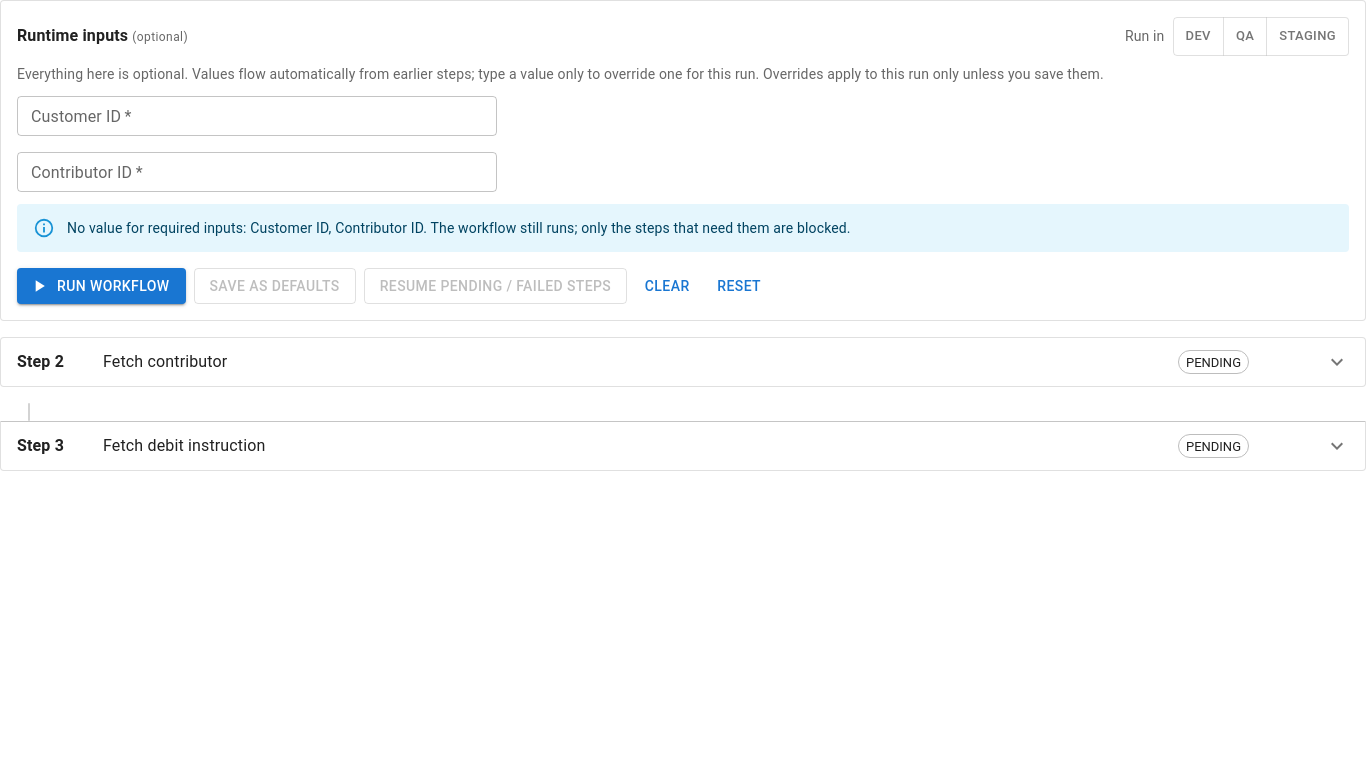
Test: WorkflowRunner › starts a run with the entered inputs and shows mapped values passed between steps
The width and height of the screenshot is (1366, 768).
Type "C1" into the field with test id "field-customerId" at (257, 116), box [17, 96, 497, 136]
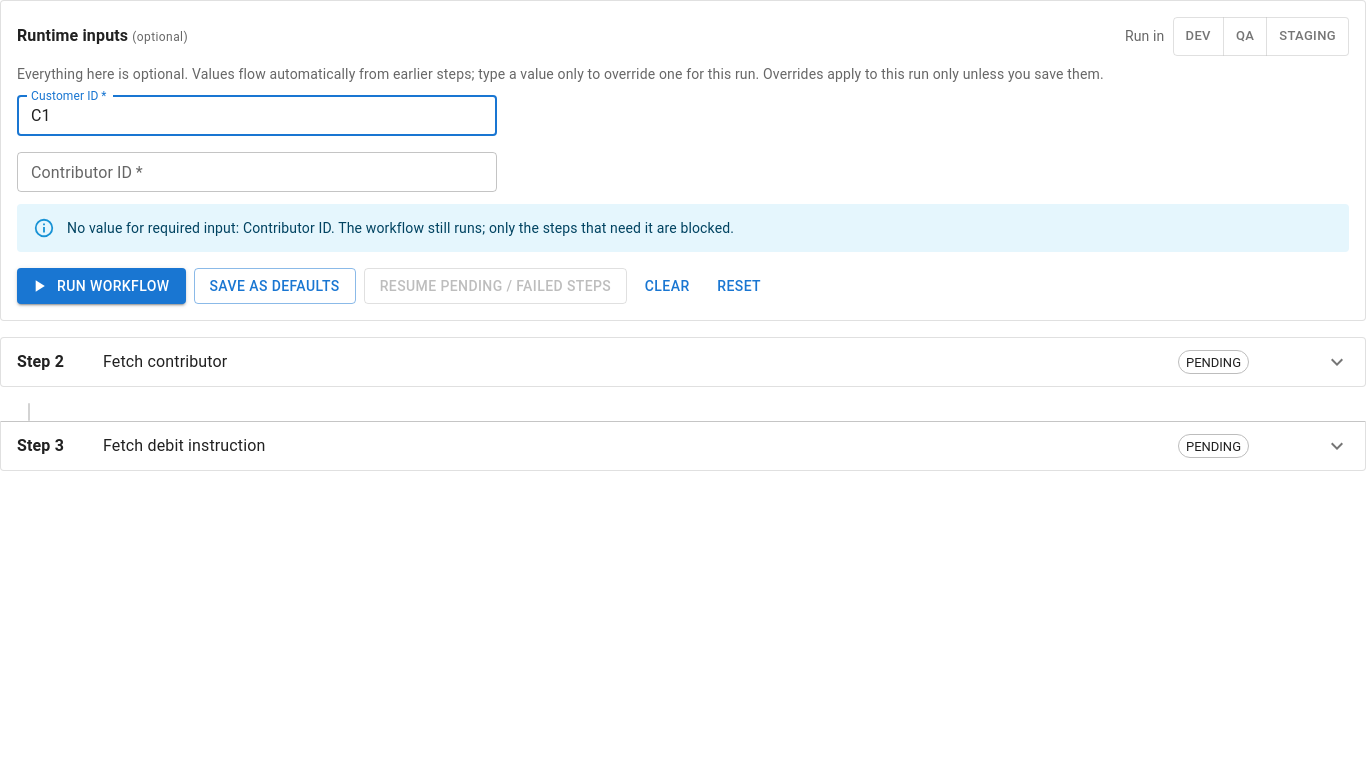
Type "CT7" into the field with test id "field-contributorId" at (257, 172), box [17, 152, 497, 192]
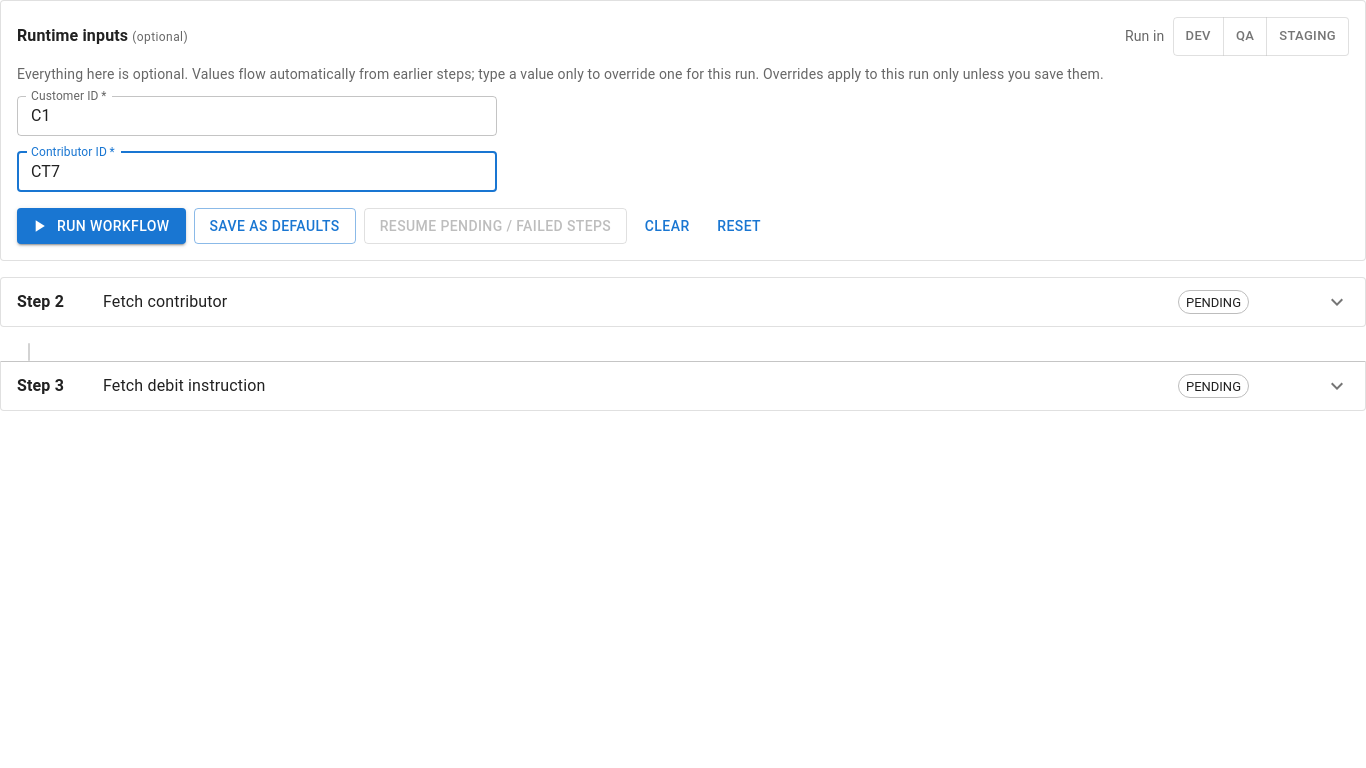
Click the button "Run workflow" at (101, 226), box [17, 208, 186, 244]
(page scrolled)
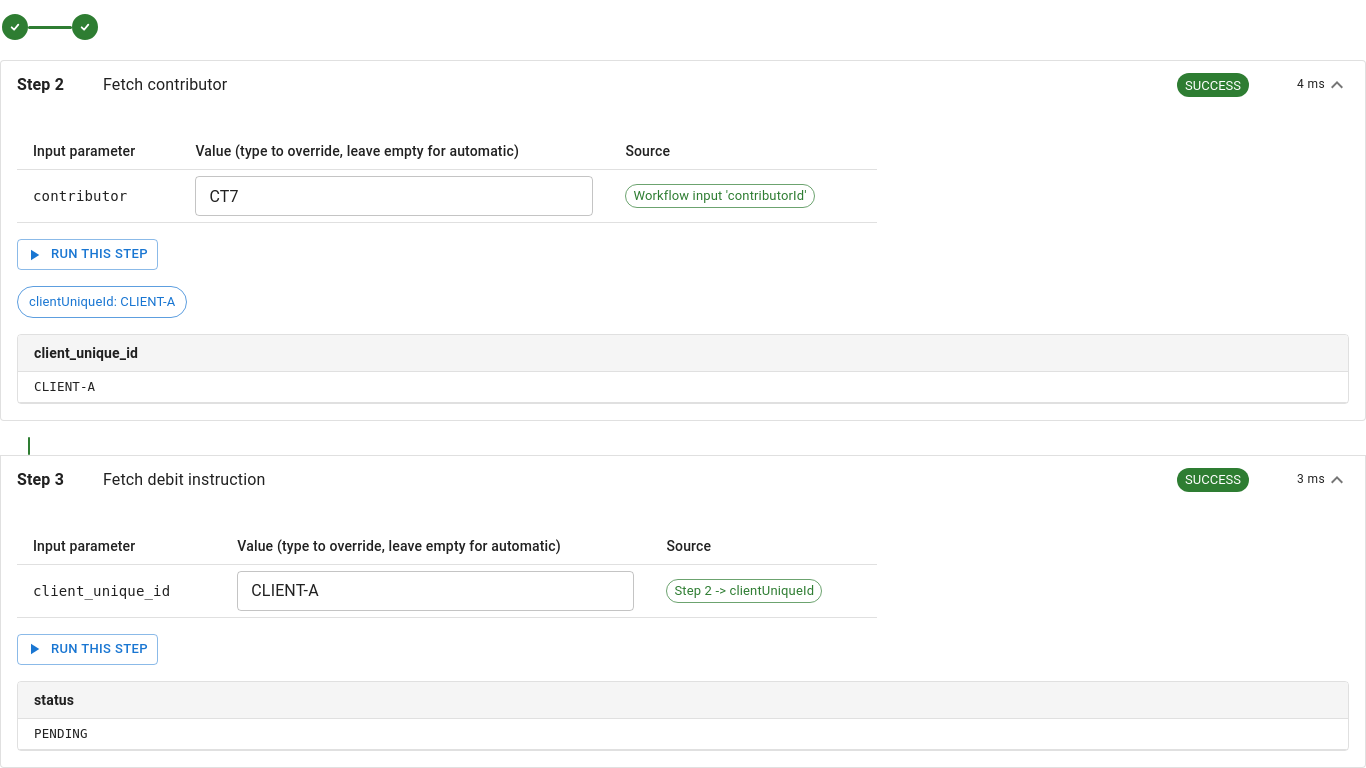
Check: the field showing "CLIENT-A" is shown, box [237, 571, 634, 611]
Check: the text "Step 2 -> clientUniqueId" is shown, box [667, 582, 821, 600]
Check: the text "clientUniqueId: CLIENT-A" is shown, box [18, 292, 186, 312]
